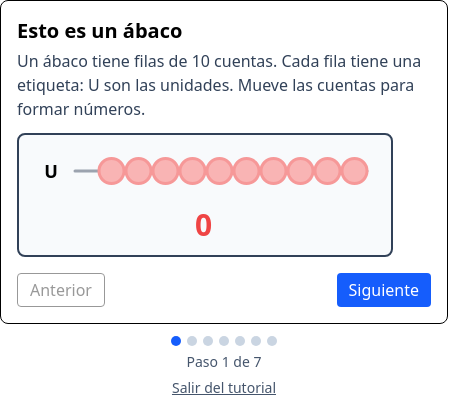
Scenario: AbacusTutorial › en paso de ejercicio: respuesta correcta habilita Siguiente
This screenshot has width=465, height=420.
Click the button "Siguiente": {"x": 384, "y": 290} left=336, top=273, right=431, bottom=307
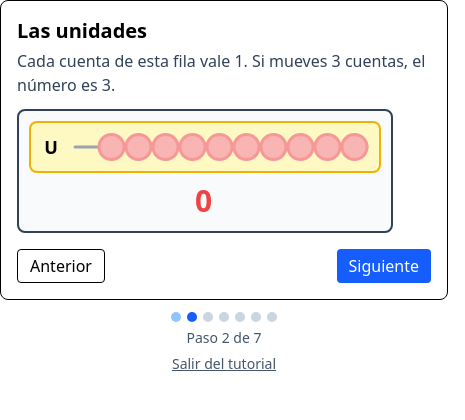
Click the button "Siguiente": {"x": 384, "y": 266} left=336, top=249, right=431, bottom=283
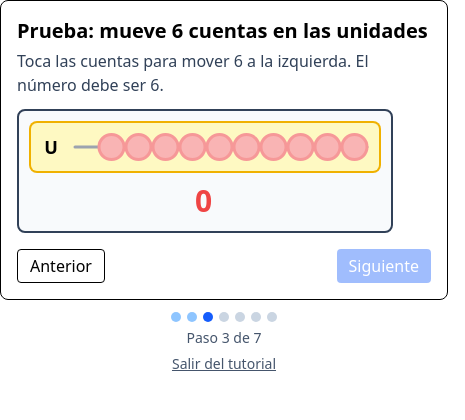
Click the slider: {"x": 221, "y": 147} left=71, top=127, right=371, bottom=167
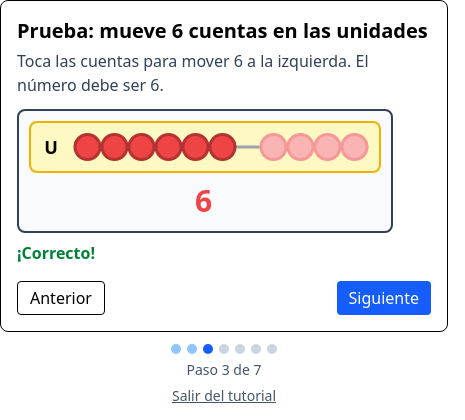
Check: the button "Siguiente" is enabled, box left=336, top=281, right=431, bottom=315
Check: the text "¡Correcto!" is shown, box left=17, top=242, right=95, bottom=264
